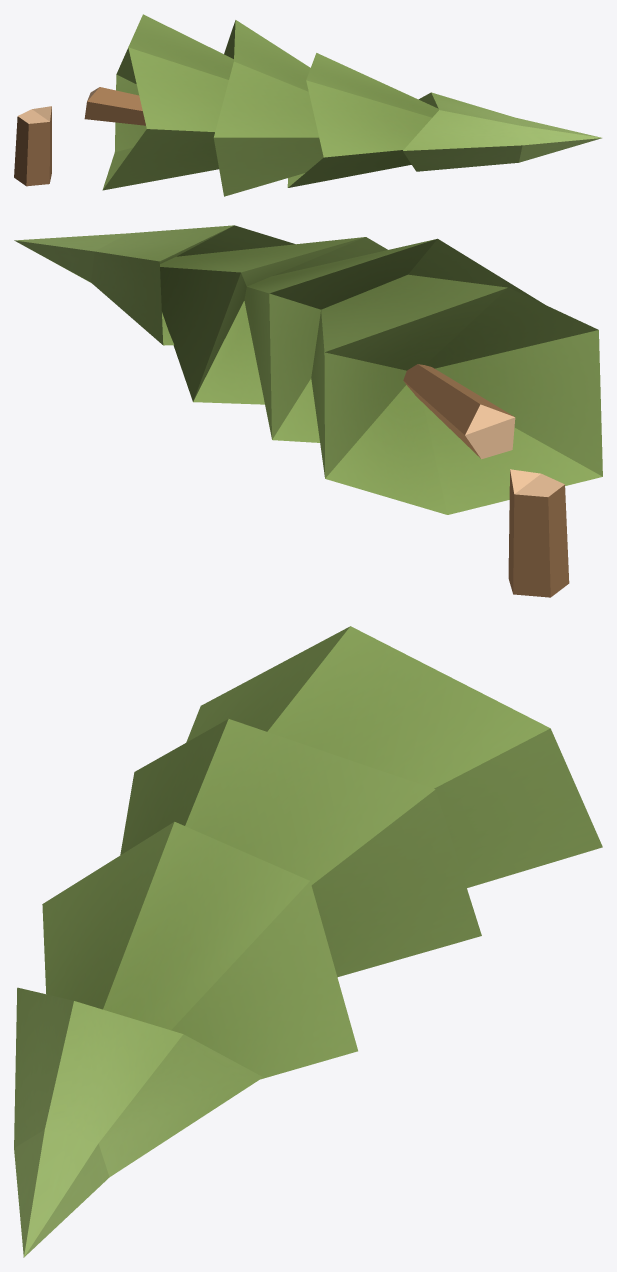
Rendered from Pine_Tree_crk_m_03_LOD.fbx.
The picture shows the model from 3 angles, top to bottom: view 1: azimuth 30°, elevation 25°; view 2: azimuth 150°, elevation 25°; view 3: azimuth 270°, elevation 25°; orthographic projection. The views are drawn at different scales.
Parts seen in each view (by area): view 1: Pine_Tree_crk_m_03_LOD0; view 2: Pine_Tree_crk_m_03_LOD0; view 3: Pine_Tree_crk_m_03_LOD0.
Part boxes in pixels (x1=…): Pine_Tree_crk_m_03_LOD0: x1=14, y1=14, x2=601, y2=196; Pine_Tree_crk_m_03_LOD0: x1=14, y1=225, x2=602, y2=597; Pine_Tree_crk_m_03_LOD0: x1=14, y1=626, x2=602, y2=1257.
Size of what is drawn, in the model's own units: 522 by 157 by 290.
